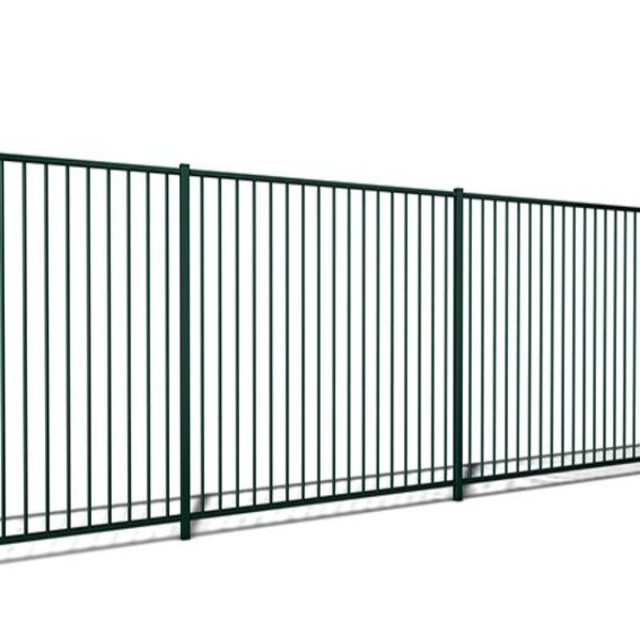obstacle: (0, 115, 402, 254)
